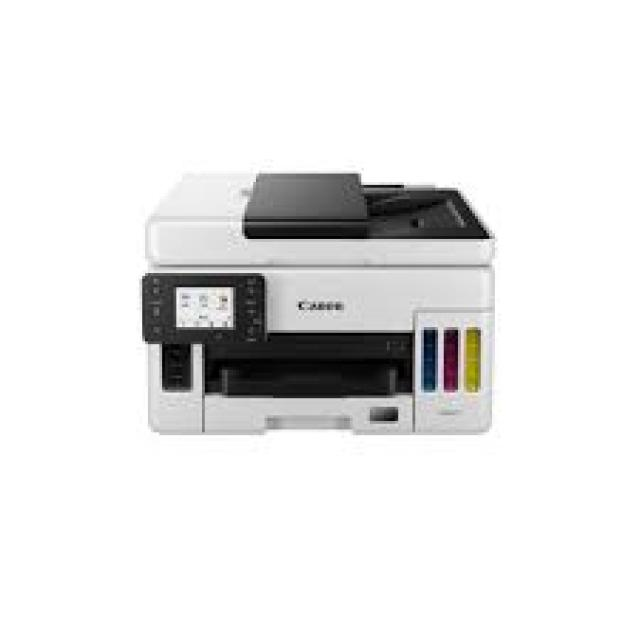printer: (139, 168, 495, 435)
